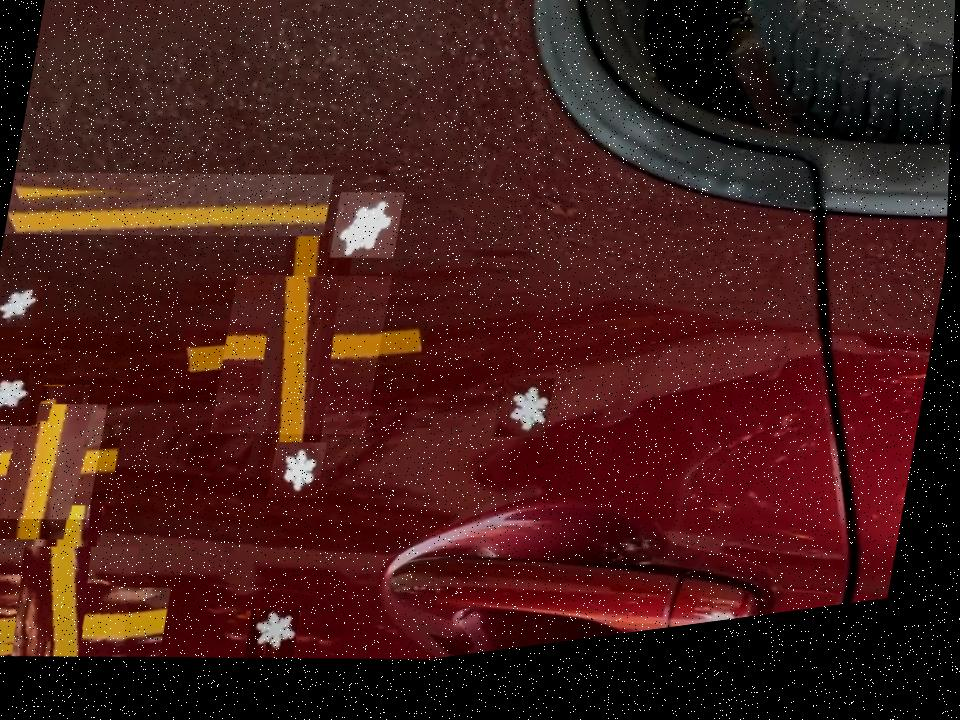dent: (331, 195, 406, 276), (495, 387, 558, 458), (270, 445, 330, 513), (0, 360, 48, 432), (249, 612, 306, 672), (0, 272, 49, 333)
scratch: (5, 140, 337, 279), (213, 266, 395, 461), (0, 530, 144, 676), (0, 391, 110, 533)
